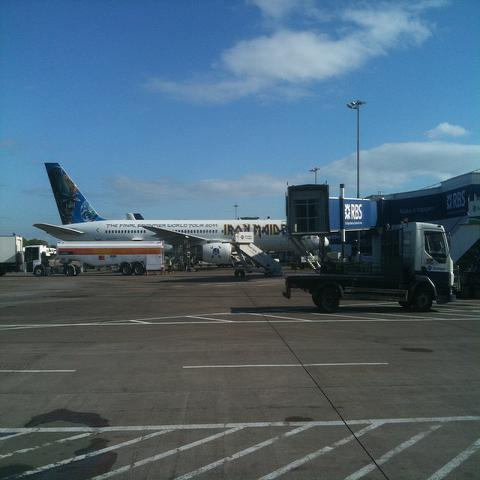truck: (282, 223, 454, 315), (22, 240, 165, 277), (0, 234, 24, 276)
